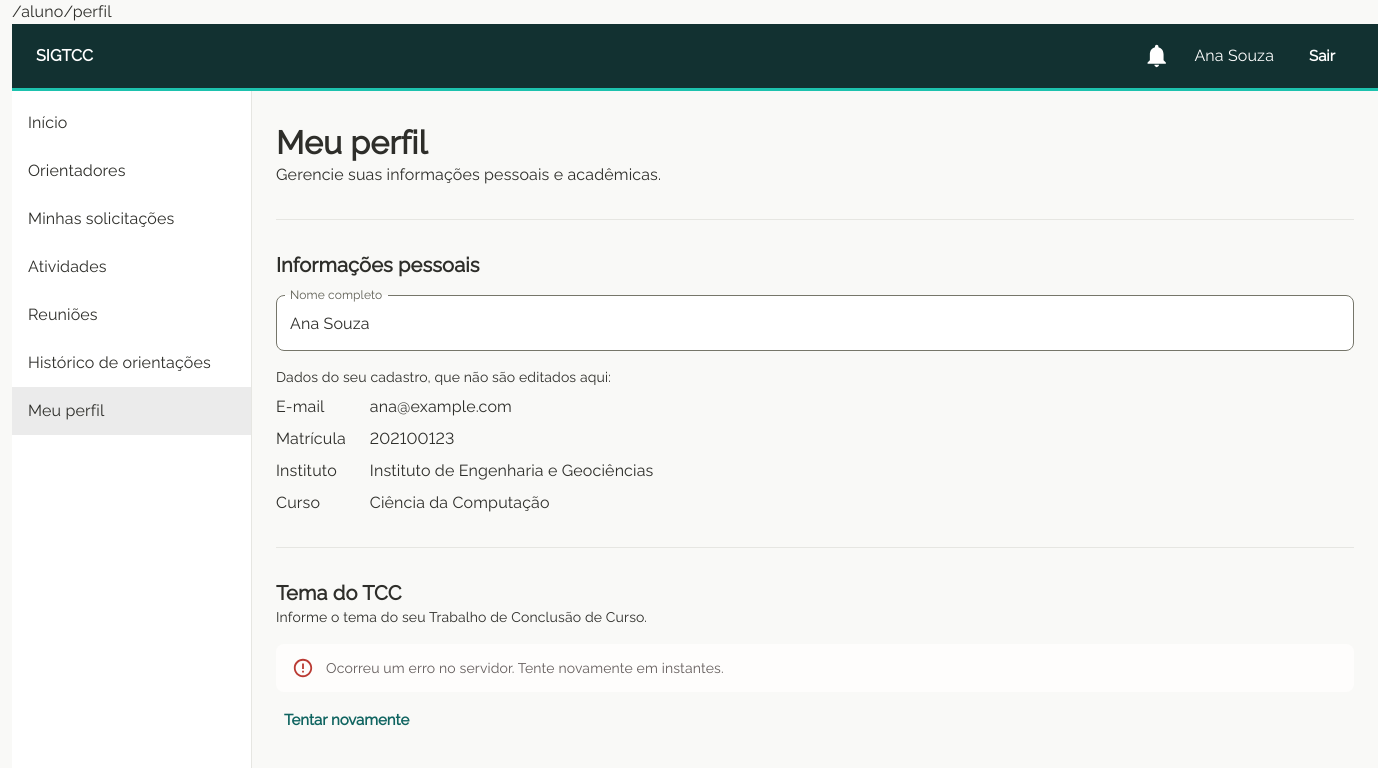
Test: Perfil do aluno: seção Tema do TCC › mostra o esqueleto enquanto carrega e oferece Tentar novamente quando falha
Later steps or results of the test are not shown.
Expected: the message shows "Ocorreu um erro no servidor", x1=326 y1=660 x2=724 y2=676
Click the button "Tentar novamente": {"x": 347, "y": 720} x1=276 y1=700 x2=417 y2=740
(page scrolled)
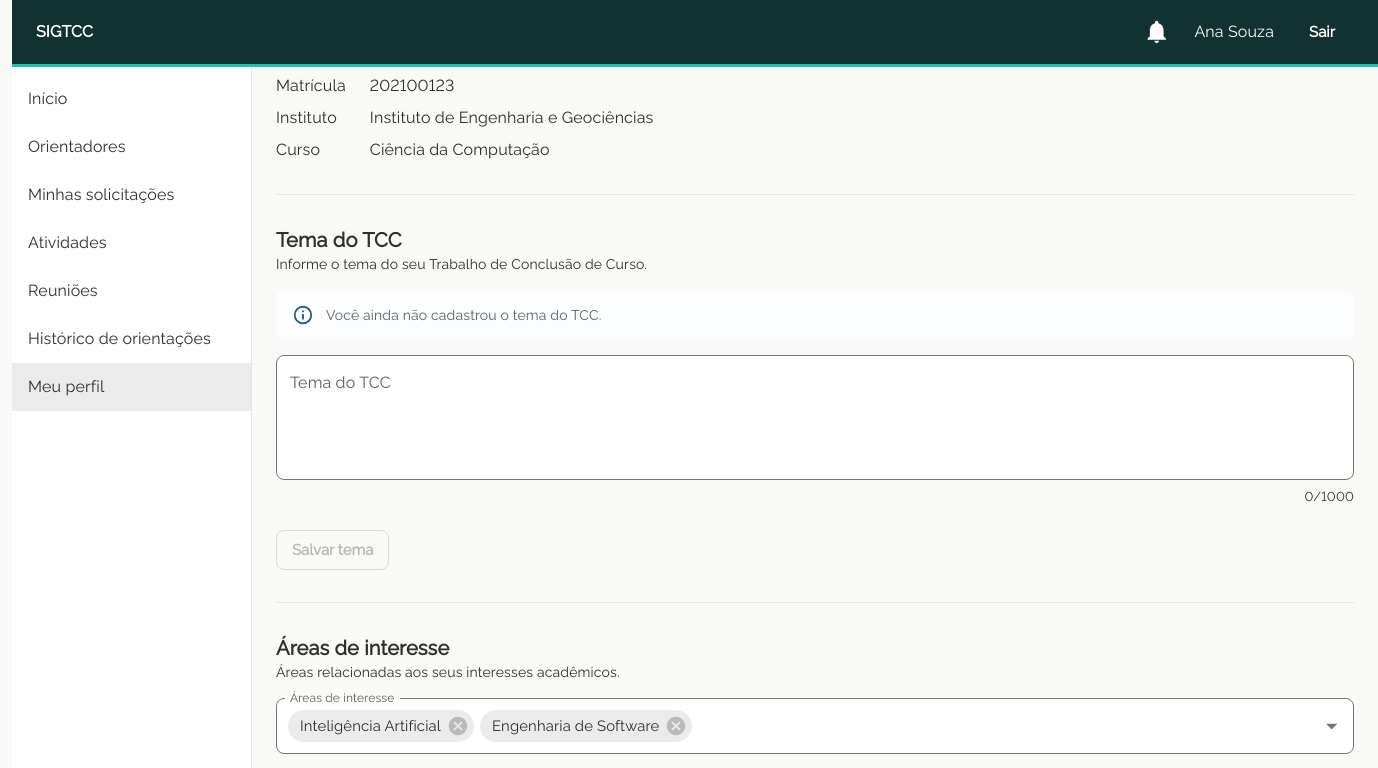
Expected: the text box labelled "Tema do TCC" is shown, x1=290 y1=371 x2=1340 y2=463
